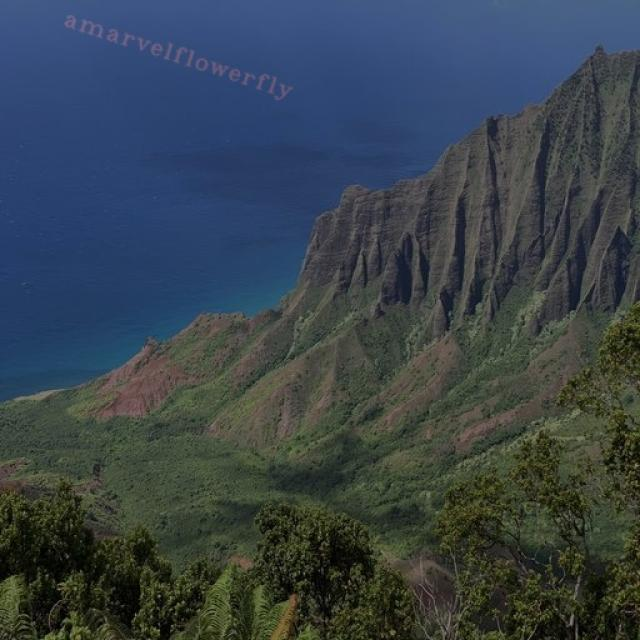watermark: (55, 6, 306, 102)
